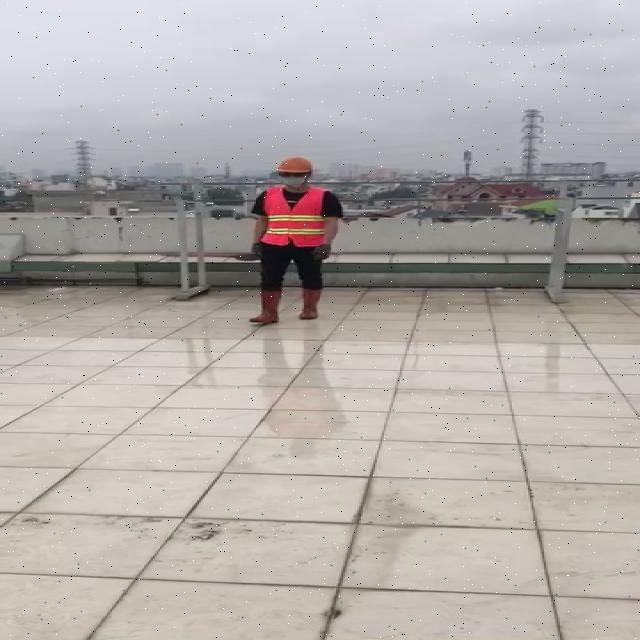Hard_hat: (273, 155, 320, 180)
Person: (239, 150, 357, 337)
Vest: (258, 184, 340, 247)
